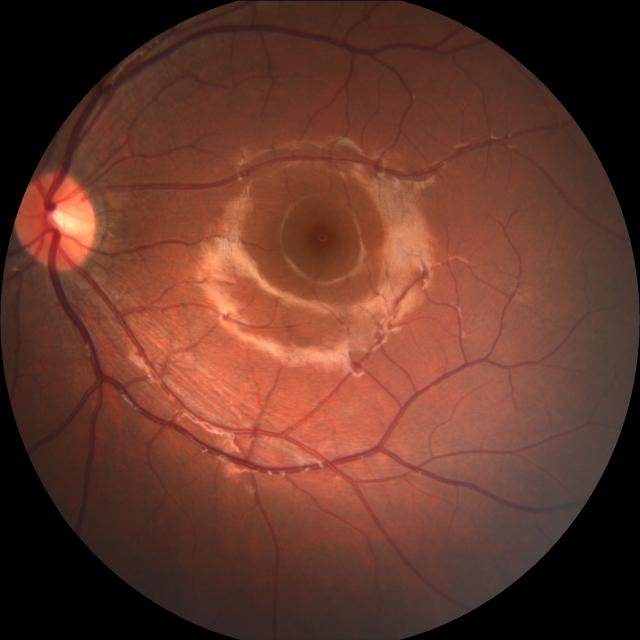OC: (40, 194, 86, 244)
OD: (17, 172, 98, 268)
